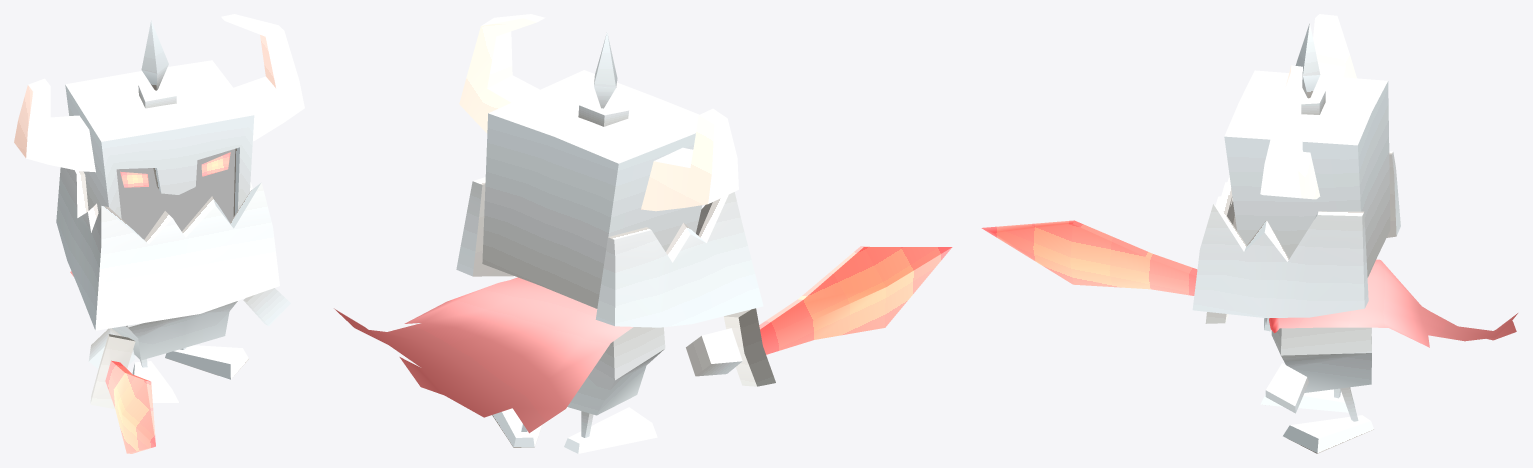
Rendered from warrior.glb.
The picture shows the model from 3 angles, left to right: view 1: azimuth 30°, elevation 25°; view 2: azimuth 150°, elevation 25°; view 3: azimuth 270°, elevation 25°; orthographic projection. The views are drawn at different scales.
Parts seen in each view (by area): view 1: Evil_Warrior_Mesh_Base; view 2: Evil_Warrior_Mesh_Base; view 3: Evil_Warrior_Mesh_Base.
Part boxes in pixels (box(x1,y1,x2,y2)): Evil_Warrior_Mesh_Base: box(14, 14, 304, 453); Evil_Warrior_Mesh_Base: box(334, 14, 952, 453); Evil_Warrior_Mesh_Base: box(981, 14, 1517, 453).
Bounding box in the file's own units: 1.78 × 2.05 × 2.63.
